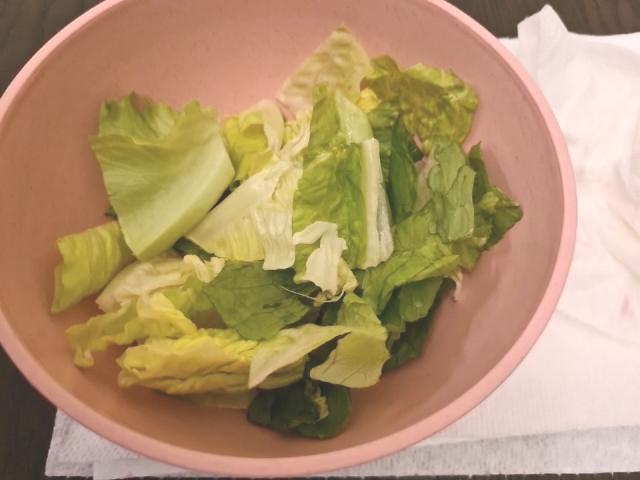kichen waste: (54, 58, 521, 439)
